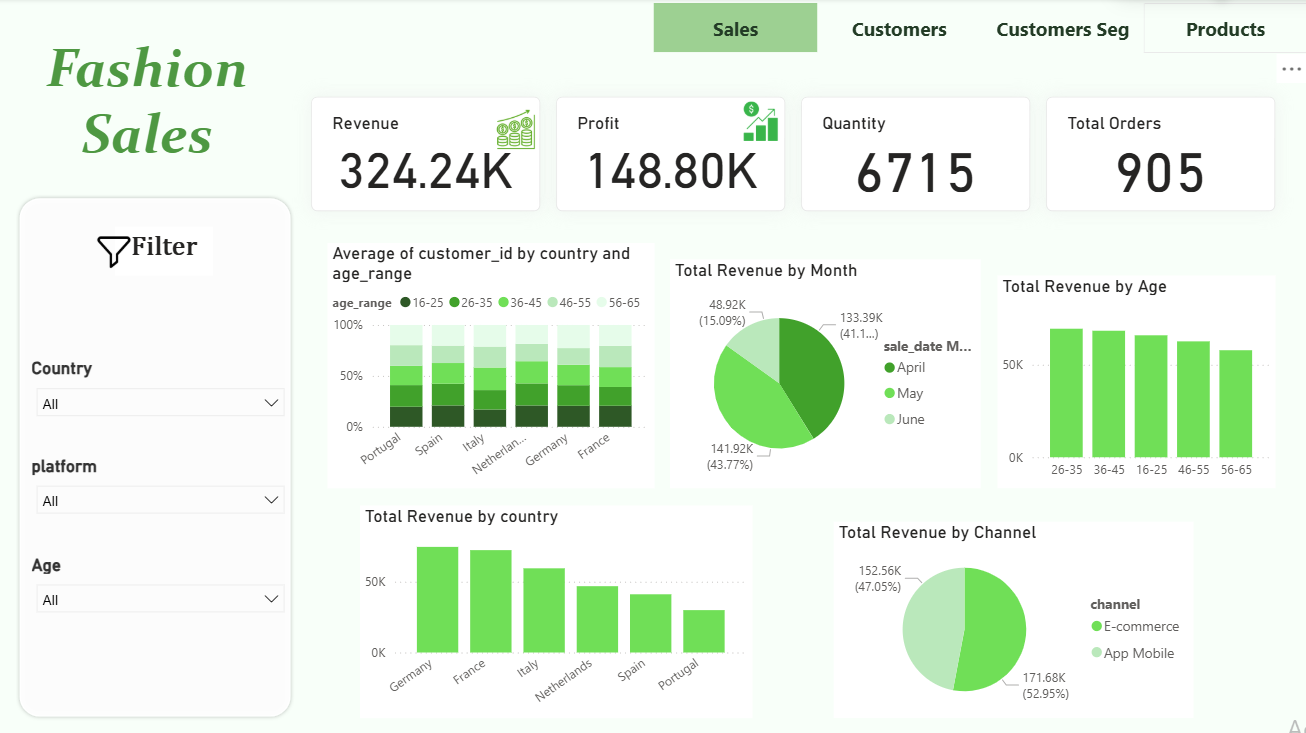

What the dashboard file says about the page in this screenshot:
{"tool":"powerbi","page":{"name":"Duplicate of sales","canvas":[1280,720],"ordinal":0},"visuals":[{"type":"shape","box":[0,192,288,528],"z":0},{"type":"card","title":"Revenue","fields":{"Values":["Sum(dataset_fashion_store_sales.total_amount)"]},"box":[304,96,224,112],"z":1000},{"type":"card","title":"Quantity","fields":{"Values":["Sum(dataset_fashion_store_salesitems.quantity)"]},"box":[784,96,224,112],"z":2000},{"type":"card","title":"Profit","fields":{"Values":["dataset_fashion_store_salesitems.Profit"]},"box":[544,96,224,112],"z":3000},{"type":"columnChart","title":"Total Revenue by Age","fields":{"Category":["dataset_fashion_store_customers.age_range"],"Y":["Sum(dataset_fashion_store_sales.total_amount)"]},"box":[976,272,272,208],"z":4000},{"type":"slicer","title":"platform","fields":{"Values":["dataset_fashion_store_sales.channel"]},"box":[16,448,272,64],"z":5000},{"type":"columnChart","title":"Total Revenue by country","fields":{"Category":["dataset_fashion_store_customers.country"],"Y":["Sum(dataset_fashion_store_sales.total_amount)"]},"box":[352,496,384,208],"z":6000},{"type":"hundredPercentStackedColumnChart","fields":{"Category":["dataset_fashion_store_customers.country"],"Y":["Avg(dataset_fashion_store_customers.customer_id)"],"Series":["dataset_fashion_store_customers.age_range"]},"box":[320,240,320,240],"z":7000},{"type":"slicer","title":"Age","fields":{"Values":["dataset_fashion_store_customers.age_range"]},"box":[16,544,272,64],"z":8000},{"type":"slicer","title":"Country","fields":{"Values":["dataset_fashion_store_customers.country"]},"box":[16,352,272,80],"z":9000},{"type":"textbox","box":[112,224,96,48],"z":10000},{"type":"image","box":[80,224,64,48],"z":11000},{"type":"pieChart","title":"Total Revenue by Channel","fields":{"Category":["dataset_fashion_store_sales.channel"],"Y":["Sum(dataset_fashion_store_sales.total_amount)"]},"box":[816,512,352,192],"z":12000},{"type":"textbox","box":[16,0,256,176],"z":13000},{"type":"image","box":[480,96,48,64],"z":14000},{"type":"image","box":[720,96,48,48],"z":15000},{"type":"card","title":"Total Orders","fields":{"Values":["CountNonNull(dataset_fashion_store_sales.sale_id)"]},"box":[1024,96,224,112],"z":16000},{"type":"pieChart","title":"Total Revenue by Month","fields":{"Y":["Sum(dataset_fashion_store_sales.total_amount)"],"Category":["dataset_fashion_store_sales.sale_date.Variation.Date Hierarchy.Month"]},"box":[656,256,304,224],"z":17000},{"type":"actionButton","box":[639.4,5.5,160,48],"z":18000},{"type":"actionButton","box":[799.4,5.5,160,48],"z":19000},{"type":"actionButton","box":[1119.4,5.5,160,48],"z":20000},{"type":"actionButton","box":[959.4,5.5,160,48],"z":21000}]}

Visuals, with their boxes in screenshot pixels (x1, y1, x2, y2), scaled from the page's 1280x720 canvas onto the 1306x733 screenshot:
shape: left=0, top=195, right=294, bottom=732
"Revenue" card: left=310, top=98, right=539, bottom=212
"Quantity" card: left=800, top=98, right=1028, bottom=212
"Profit" card: left=555, top=98, right=784, bottom=212
"Total Revenue by Age" columnChart: left=996, top=277, right=1273, bottom=489
"platform" slicer: left=16, top=456, right=294, bottom=521
"Total Revenue by country" columnChart: left=359, top=505, right=751, bottom=717
hundredPercentStackedColumnChart - dataset_fashion_store_customers.country x Avg(dataset_fashion_store_customers.customer_id): left=326, top=244, right=653, bottom=489
"Age" slicer: left=16, top=554, right=294, bottom=619
"Country" slicer: left=16, top=358, right=294, bottom=440
textbox: left=114, top=228, right=212, bottom=277
image: left=82, top=228, right=147, bottom=277
"Total Revenue by Channel" pieChart: left=833, top=521, right=1192, bottom=717
textbox: left=16, top=0, right=278, bottom=179
image: left=490, top=98, right=539, bottom=163
image: left=735, top=98, right=784, bottom=147
"Total Orders" card: left=1045, top=98, right=1273, bottom=212
"Total Revenue by Month" pieChart: left=669, top=261, right=980, bottom=489
actionButton: left=652, top=6, right=816, bottom=54
actionButton: left=816, top=6, right=979, bottom=54
actionButton: left=1142, top=6, right=1305, bottom=54
actionButton: left=979, top=6, right=1142, bottom=54
